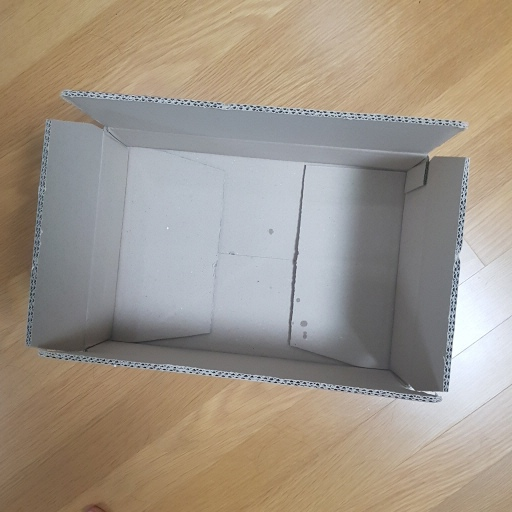Paper_0: (21, 85, 473, 417)
